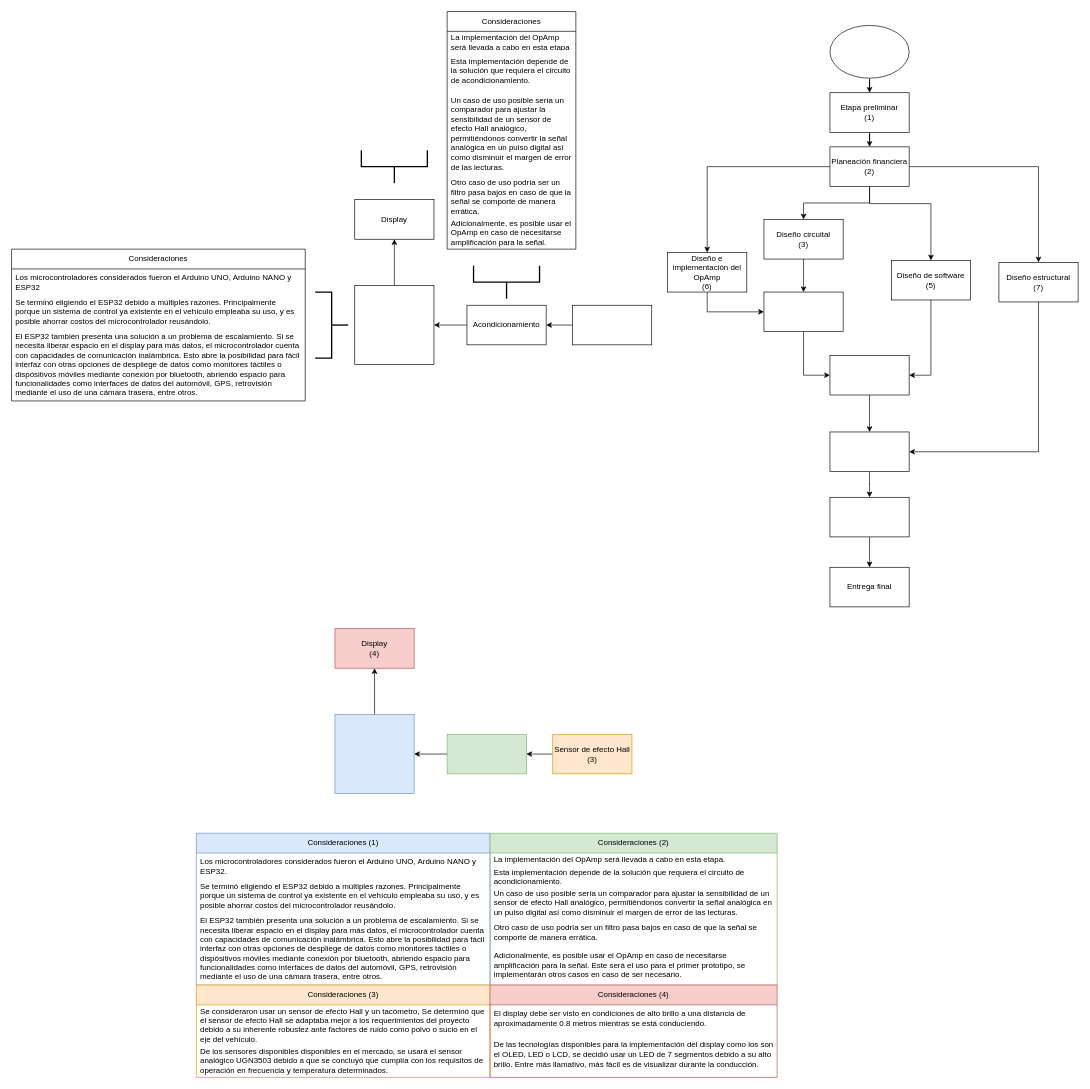
This 1090x1089 diagram has some shape labels left out. Each missing label, with the centre of its shape:
Acondicionamiento (2): (x=486, y=754)
Implementación del producto (9): (x=869, y=451)
Inicio: (x=869, y=51)
Microcontrolador: (x=394, y=325)
Microcontrolador (1): (x=374, y=754)
Prototipado circuital (4): (x=803, y=311)
Pruebas electrónicas (8): (x=869, y=375)
Pruebas finales (10): (x=869, y=517)
Sensor de efecto Hall: (x=612, y=325)
